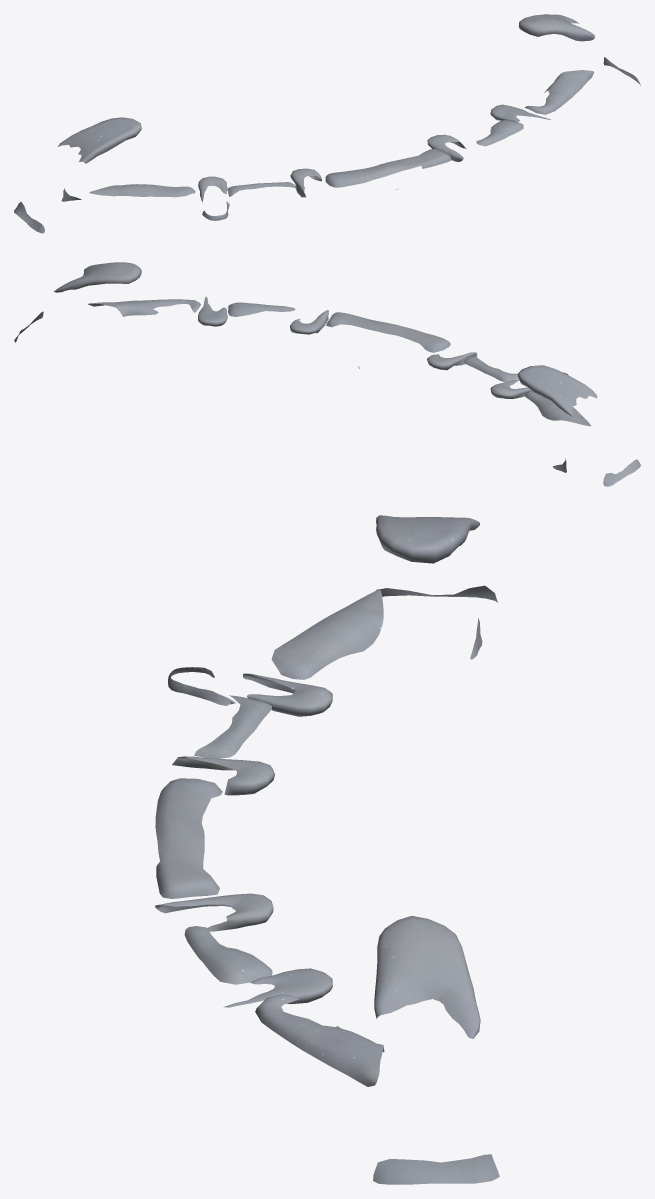
Rendered from pref_sm_beach_winter_topsnow_lv3.fbx.
3 views of the same model, one above another, from view 1: azimuth 30°, elevation 25°; view 2: azimuth 150°, elevation 25°; view 3: azimuth 270°, elevation 25° (orthographic). The views are drawn at different scales.
Visible parts, largest first — view 1: sm_beach_winter_topsnow01_lv3, sm_beach_winter_topsnow02_lv3; view 2: sm_beach_winter_topsnow01_lv3, sm_beach_winter_topsnow02_lv3; view 3: sm_beach_winter_topsnow01_lv3, sm_beach_winter_topsnow02_lv3.
Boxes of the visible parts, <box> form: sm_beach_winter_topsnow01_lv3: <box>14,14,640,233</box>; sm_beach_winter_topsnow02_lv3: <box>89,70,593,197</box>; sm_beach_winter_topsnow01_lv3: <box>14,262,640,486</box>; sm_beach_winter_topsnow02_lv3: <box>88,299,590,426</box>; sm_beach_winter_topsnow01_lv3: <box>155,515,499,1184</box>; sm_beach_winter_topsnow02_lv3: <box>155,590,384,1086</box>.
Bounding box in the file's own units: 38.66 × 5.51 × 9.56.
